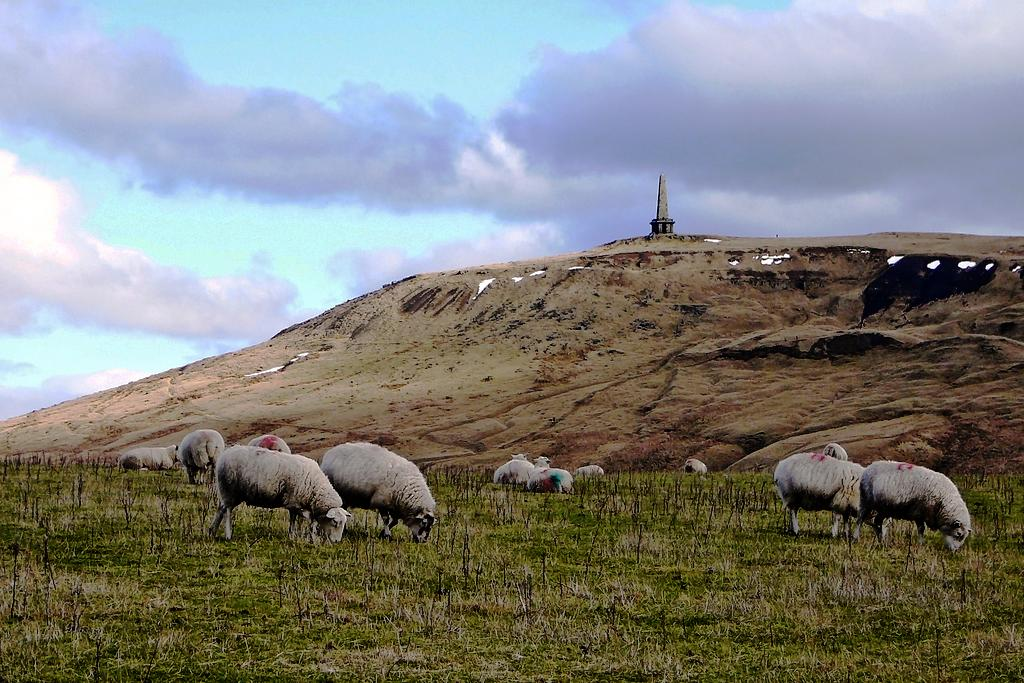Sheep: (211, 444, 348, 548), (851, 458, 972, 556), (323, 443, 437, 546), (768, 458, 888, 543), (173, 427, 225, 487), (243, 434, 294, 473), (525, 456, 576, 495), (119, 445, 178, 470), (492, 456, 532, 489), (822, 442, 846, 462)
